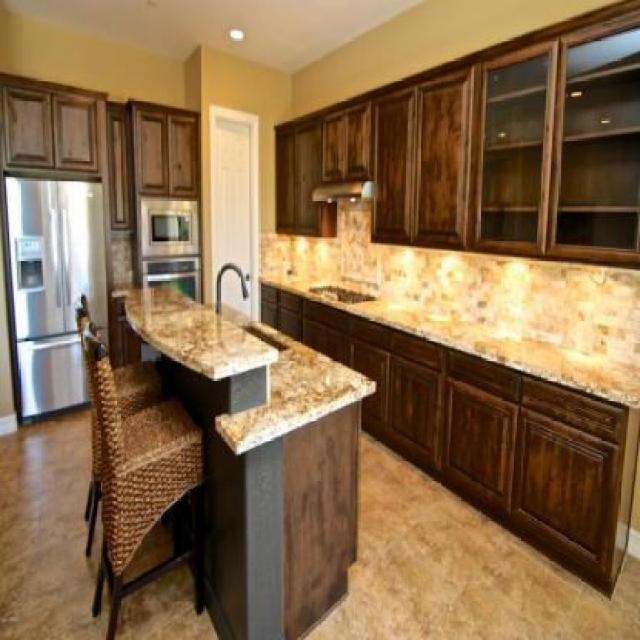Floor: (298, 426, 639, 639), (0, 401, 220, 639), (123, 516, 176, 584)
